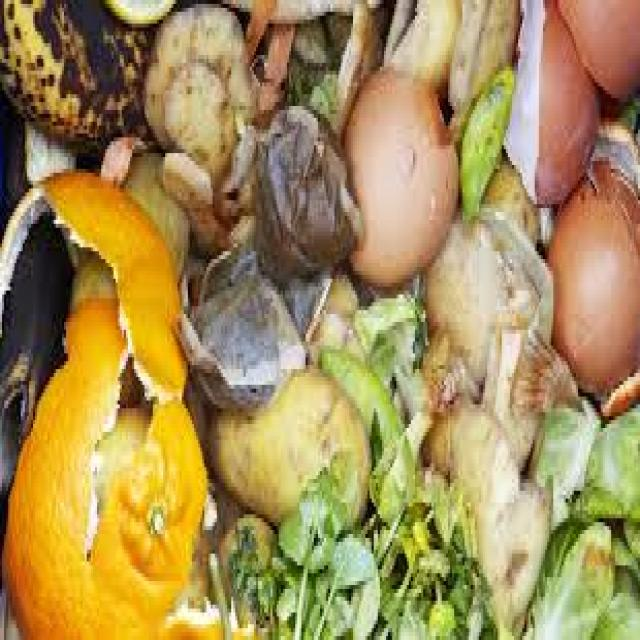Organik: (2, 0, 640, 640), (172, 76, 359, 453), (329, 40, 475, 308), (2, 0, 208, 155)
